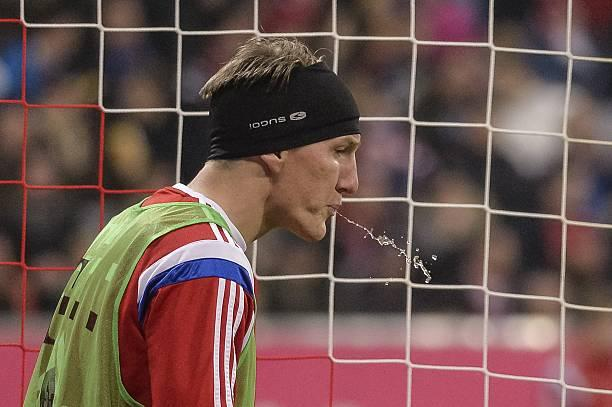Spitting: (188, 37, 394, 264)
